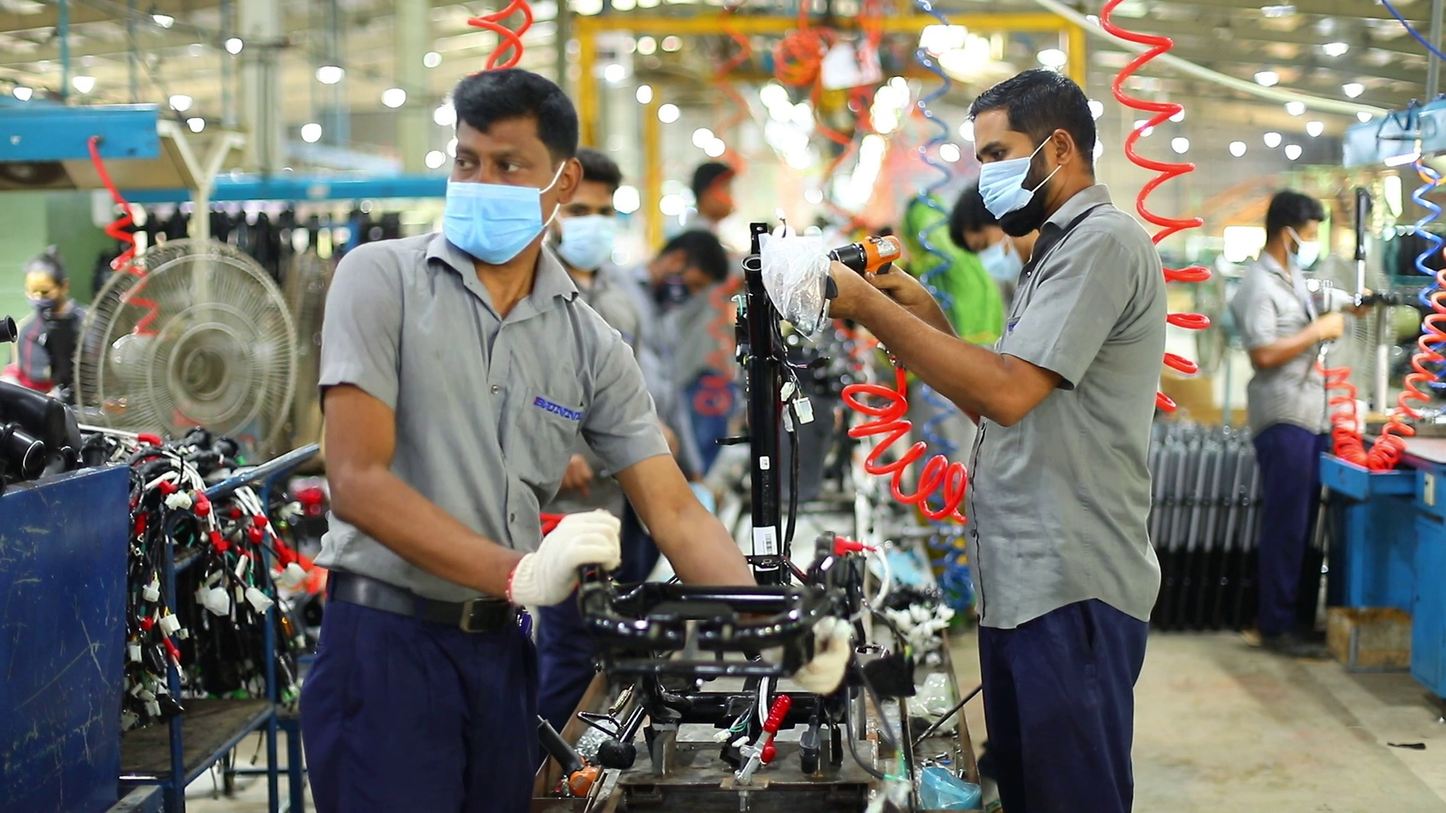mask: (444, 181, 548, 265), (554, 214, 616, 271), (978, 158, 1034, 221), (981, 255, 1021, 292), (1295, 241, 1323, 274)
person: (296, 62, 761, 813), (779, 64, 1173, 813), (1229, 181, 1360, 657), (552, 145, 681, 446), (632, 229, 737, 486), (1, 245, 89, 403), (947, 184, 1027, 330), (672, 161, 740, 257)
